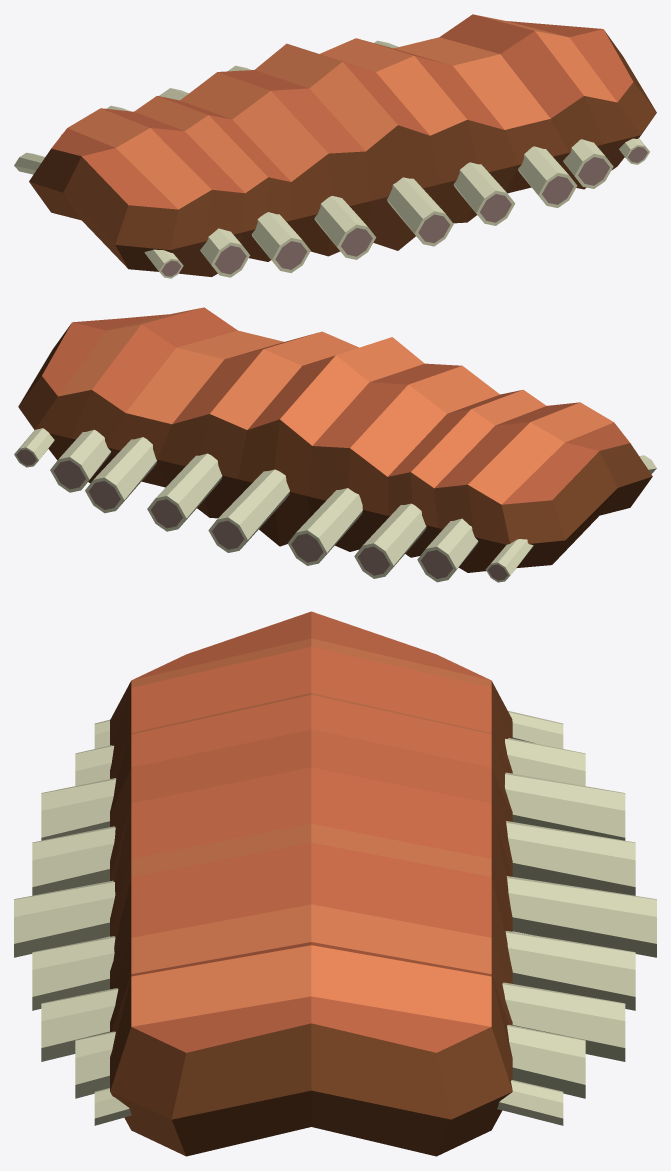
File: Cooked Ribs.fbx
3 views of the same model, one above another, from view 1: azimuth 30°, elevation 25°; view 2: azimuth 150°, elevation 25°; view 3: azimuth 270°, elevation 25° (orthographic). The views are drawn at different scales.
Visible parts, largest first — view 1: Cooked Ribs; view 2: Cooked Ribs; view 3: Cooked Ribs.
Part boxes in pixels (x1=…): Cooked Ribs: x1=14, y1=14, x2=656, y2=278; Cooked Ribs: x1=14, y1=307, x2=656, y2=582; Cooked Ribs: x1=14, y1=611, x2=656, y2=1156.
Size of the model in its own units: 19.75 by 5.01 by 12.15.
